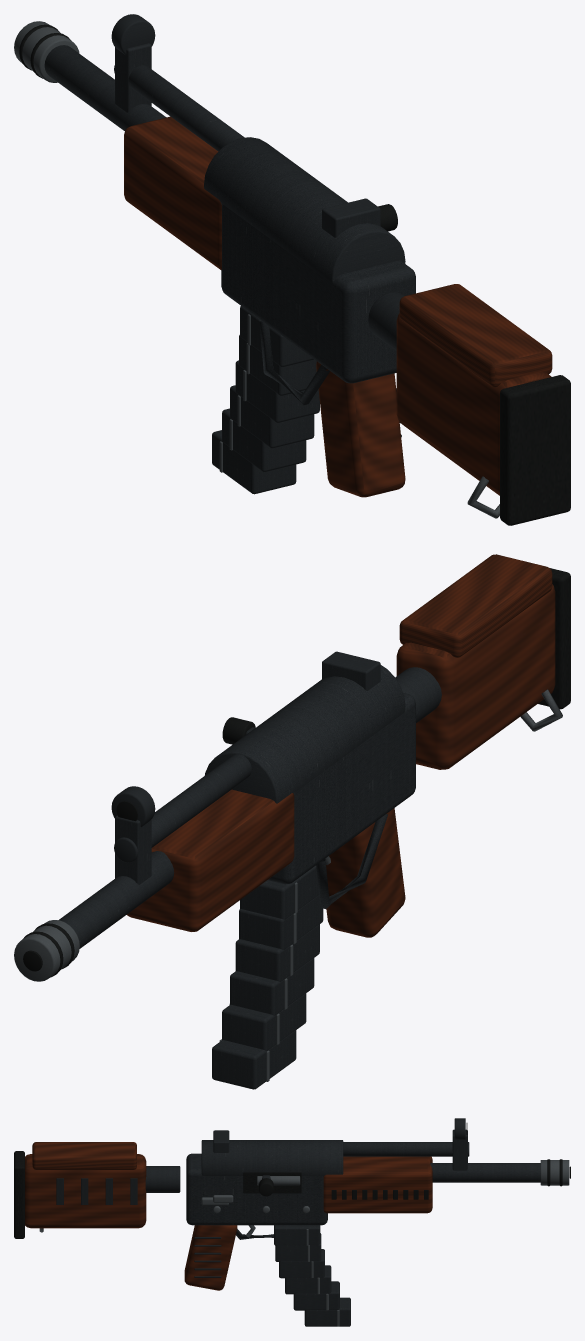
3 views of the same model, one above another, from view 1: azimuth 30°, elevation 25°; view 2: azimuth 150°, elevation 25°; view 3: azimuth 270°, elevation 25° (orthographic). The views are drawn at different scales.
Visible parts, largest first — view 1: weapon_Weapon finish / Walnut laminate, weapon_Weapon finish / Parkerized steel, weapon_Parkerized steel, magazine_Parkerized steel, weapon_Polymer, weapon_Walnut laminate, weapon_Machined edges, magazine_Machined edges; view 2: weapon_Weapon finish / Walnut laminate, weapon_Weapon finish / Parkerized steel, magazine_Parkerized steel, weapon_Parkerized steel, weapon_Walnut laminate, weapon_Polymer, weapon_Machined edges, magazine_Machined edges; view 3: weapon_Weapon finish / Walnut laminate, weapon_Weapon finish / Parkerized steel, weapon_Parkerized steel, magazine_Parkerized steel, weapon_Polymer, weapon_Walnut laminate, weapon_Machined edges, bolt_Machined edges, magazine_Machined edges.
Part boxes in pixels (x1,y1,x2,y2): weapon_Weapon finish / Walnut laminate: (124,116,552,495); weapon_Weapon finish / Parkerized steel: (204,137,415,383); weapon_Parkerized steel: (44,14,404,436); magazine_Parkerized steel: (212,306,319,494); weapon_Polymer: (19,24,570,525); weapon_Walnut laminate: (316,361,405,497); weapon_Machined edges: (14,21,499,518); magazine_Machined edges: (219,314,250,472); weapon_Weapon finish / Walnut laminate: (127,554,555,931); weapon_Weapon finish / Parkerized steel: (205,665,415,884); magazine_Parkerized steel: (212,865,323,1089); weapon_Parkerized steel: (58,651,441,948); weapon_Walnut laminate: (326,808,405,937); weapon_Polymer: (22,568,570,977); weapon_Machined edges: (14,689,562,981); magazine_Machined edges: (219,882,297,1081); weapon_Weapon finish / Walnut laminate: (25,1142,432,1228); weapon_Weapon finish / Parkerized steel: (186,1140,343,1225); weapon_Parkerized steel: (56,1118,540,1277); magazine_Parkerized steel: (274,1225,350,1326); weapon_Polymer: (14,1123,570,1238); weapon_Walnut laminate: (184,1225,237,1290); weapon_Machined edges: (39,1160,569,1232); bolt_Machined edges: (257,1176,300,1185); magazine_Machined edges: (306,1229,339,1326).
Bounding box in the file's own units: 0.1329 × 0.3625 × 0.905.
Materials: 6 (6 with a texture image).
